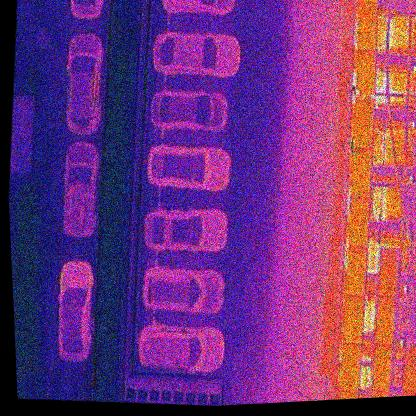Hotspot: (352, 48, 379, 102)
Normal: (376, 245, 403, 298), (372, 294, 399, 346), (340, 293, 367, 345), (349, 147, 375, 199), (346, 196, 371, 250), (355, 1, 381, 52), (338, 343, 363, 394), (345, 246, 369, 297), (352, 100, 376, 149), (370, 343, 394, 392), (401, 344, 416, 394)
